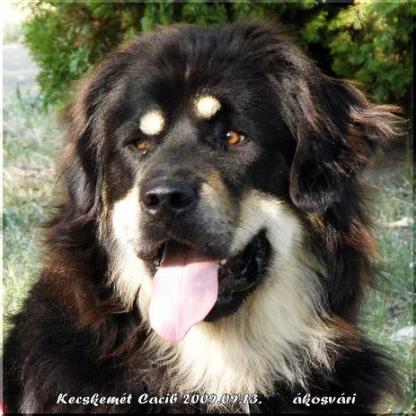Tibetan_mastiff: (0, 16, 412, 413)
